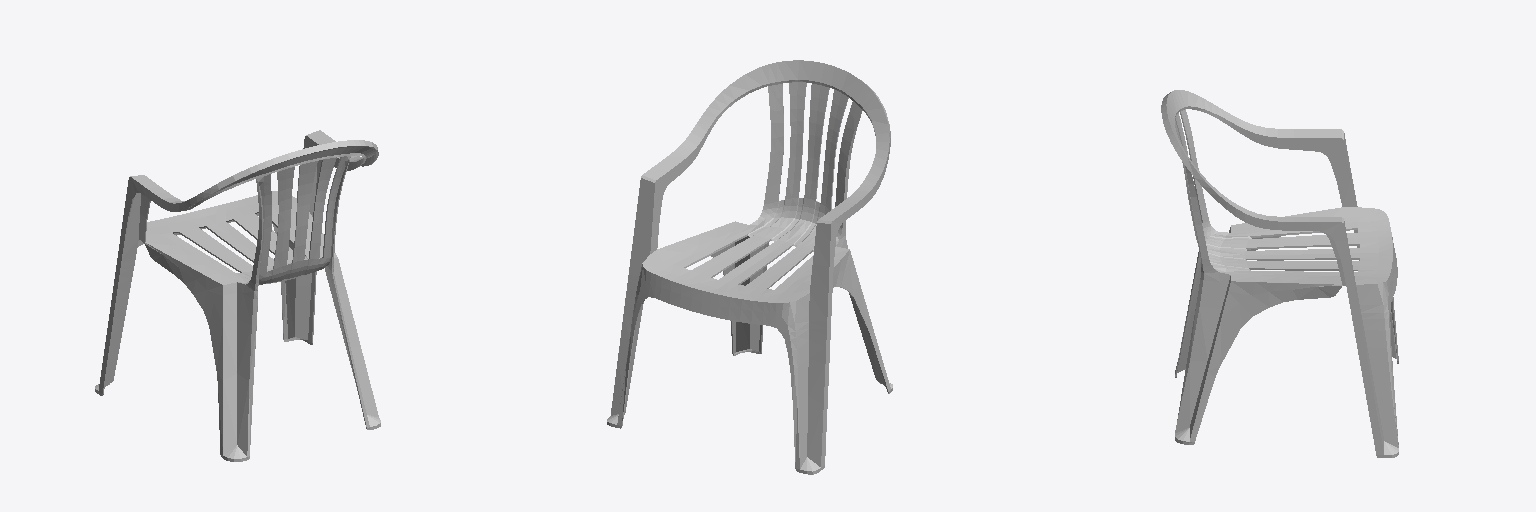
File: chair.obj
3 views of the same model, side by side, from view 1: azimuth 30°, elevation 25°; view 2: azimuth 150°, elevation 25°; view 3: azimuth 270°, elevation 25° (orthographic).
Parts seen in each view (by area): view 1: Monobloc; view 2: Monobloc; view 3: Monobloc.
Boxes of the visible parts, <box> form: Monobloc: <box>95,130,380,461</box>; Monobloc: <box>607,60,892,474</box>; Monobloc: <box>1161,90,1398,457</box>.
Bounding box in the file's own units: 1.13 × 1.55 × 1.11.